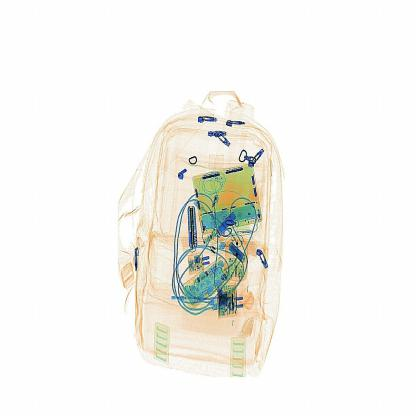scissors: (180, 199, 206, 255)
